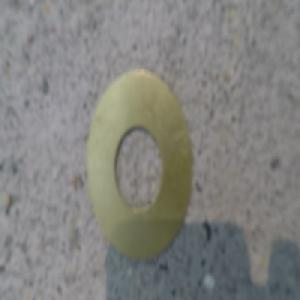Washer: (85, 65, 191, 257)
